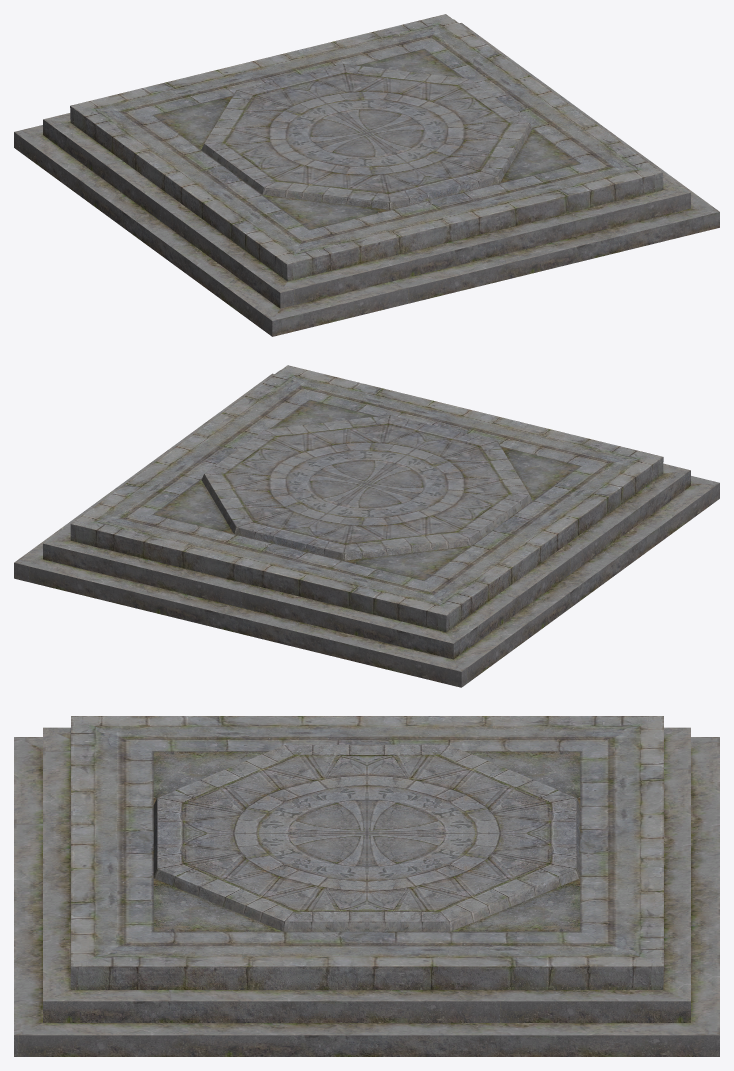
Rendered from bg_lut_lucastle_monument02_sm_artree.FBX.
3 renders of one model, top to bottom at view 1: azimuth 30°, elevation 25°; view 2: azimuth 150°, elevation 25°; view 3: azimuth 270°, elevation 25°, orthographic. The views are drawn at different scales.
Visible parts, largest first — view 1: bg_lut_lucastle_monument02_sm_artree; view 2: bg_lut_lucastle_monument02_sm_artree; view 3: bg_lut_lucastle_monument02_sm_artree.
Boxes of the visible parts, box(x1,y1,x2,y2) form: bg_lut_lucastle_monument02_sm_artree: box(14, 14, 719, 336); bg_lut_lucastle_monument02_sm_artree: box(14, 365, 719, 687); bg_lut_lucastle_monument02_sm_artree: box(14, 716, 719, 1056).
Bounding box in the file's own units: 424 × 49.26 × 424.
